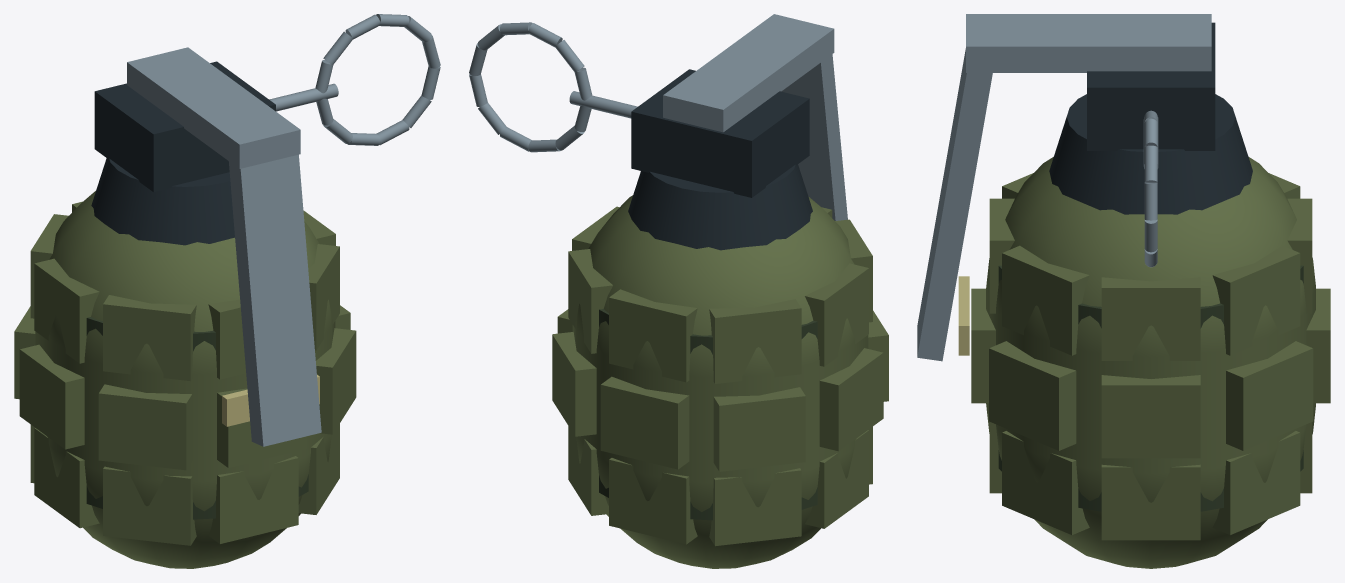
Rendered from throwable_grenade.glb.
The picture shows the model from 3 angles, left to right: view 1: azimuth 30°, elevation 25°; view 2: azimuth 150°, elevation 25°; view 3: azimuth 270°, elevation 25°; orthographic projection. The views are drawn at different scales.
Visible parts, largest first — view 1: grip, lever_side, lever_top, top_cap, top_collar, shell_panel_1_7, shell_panel_2_7, shell_panel_0_7, shell_panel_0_0, shell_panel_1_6, shell_panel_2_6, shell_panel_0_6 (+11 smaller); view 2: grip, top_cap, top_collar, lever_top, shell_panel_1_5, shell_panel_1_4, shell_panel_2_5, shell_panel_2_4, shell_panel_0_5, lever_side, shell_panel_0_4, shell_panel_1_6 (+10 smaller); view 3: grip, lever_top, top_collar, top_cap, lever_side, shell_panel_1_2, shell_panel_2_2, shell_panel_1_3, shell_panel_1_1, shell_panel_0_2, shell_panel_2_3, shell_panel_2_1 (+12 smaller).
Part boxes in pixels (x1,y1,x2,y2): grip: [35, 191, 335, 568]; lever_side: [229, 154, 321, 446]; lever_top: [127, 47, 300, 168]; top_cap: [94, 61, 275, 192]; top_collar: [91, 158, 234, 245]; shell_panel_1_7: [98, 384, 192, 470]; shell_panel_2_7: [103, 295, 196, 381]; shell_panel_0_7: [103, 466, 196, 545]; shell_panel_0_0: [208, 456, 298, 543]; shell_panel_1_6: [19, 344, 84, 449]; shell_panel_2_6: [34, 258, 99, 363]; shell_panel_0_6: [34, 428, 99, 528]; grip: [572, 195, 868, 568]; top_cap: [631, 69, 809, 197]; top_collar: [628, 164, 812, 250]; lever_top: [663, 14, 834, 132]; shell_panel_1_5: [713, 387, 805, 471]; shell_panel_1_4: [600, 376, 689, 469]; shell_panel_2_5: [709, 299, 801, 383]; shell_panel_2_4: [609, 289, 697, 382]; shell_panel_0_5: [709, 468, 801, 546]; lever_side: [781, 54, 847, 220]; shell_panel_0_4: [609, 458, 697, 544]; shell_panel_1_6: [819, 348, 883, 451]; grip: [986, 157, 1315, 568]; lever_top: [966, 14, 1211, 72]; top_collar: [1049, 94, 1252, 214]; top_cap: [1087, 22, 1215, 150]; lever_side: [917, 48, 992, 361]; shell_panel_1_2: [1101, 375, 1200, 458]; shell_panel_2_2: [1101, 277, 1200, 360]; shell_panel_1_3: [1226, 341, 1313, 450]; shell_panel_1_1: [989, 341, 1076, 450]; shell_panel_0_2: [1101, 464, 1200, 540]; shell_panel_2_3: [1212, 245, 1300, 355]; shell_panel_2_1: [1002, 245, 1089, 355].
Bounding box in the file's own units: 0.1364 × 0.1619 × 0.1128.
